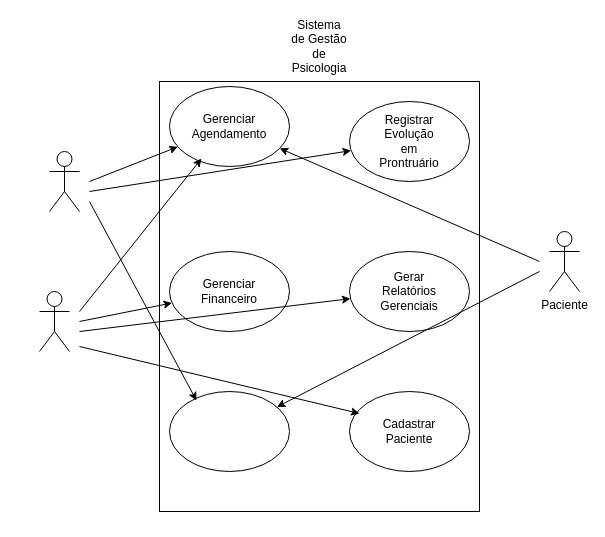
Image size: 605x537. Some labels were removed from this diagram. Here are the shapes that lost their labels. From the top down, the box of each, then its label:
(48, 150, 80, 212): Psicólogo
(38, 290, 70, 352): Administrador
(168, 390, 290, 472): Realizar Teleatendimento
